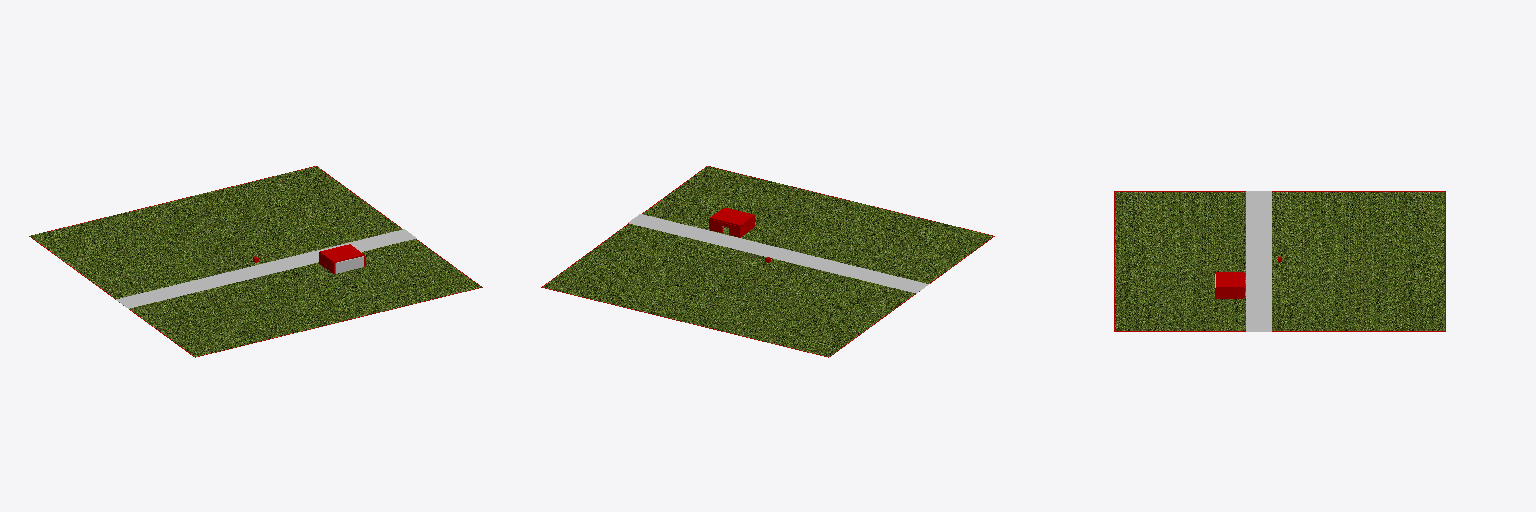
3 views of the same model, side by side, from view 1: azimuth 30°, elevation 25°; view 2: azimuth 150°, elevation 25°; view 3: azimuth 270°, elevation 25° (orthographic).
Bounding box in the file's own units: 366 × 15.63 × 365.
Materials: 5 (1 with a texture image).